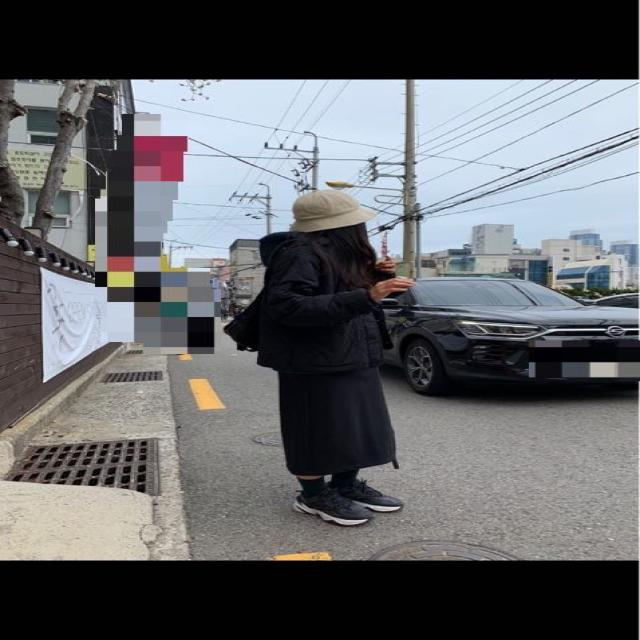padding: (249, 232, 390, 374)
skirt: (276, 359, 400, 474)
